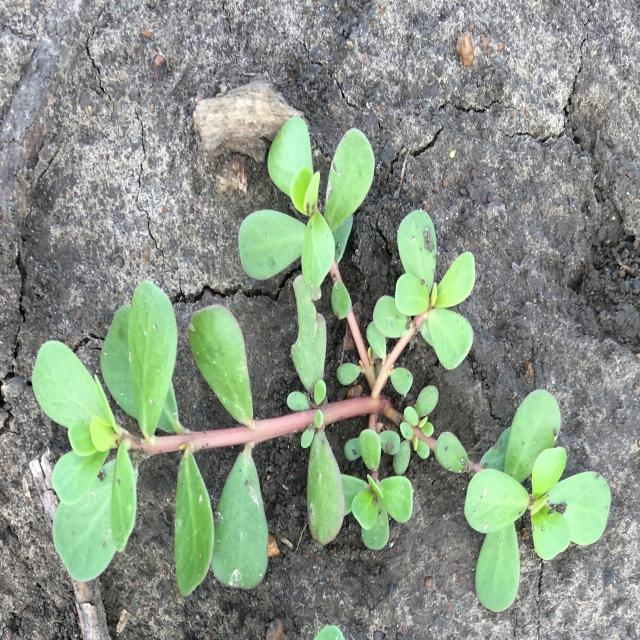Purslane: (33, 118, 612, 613)
